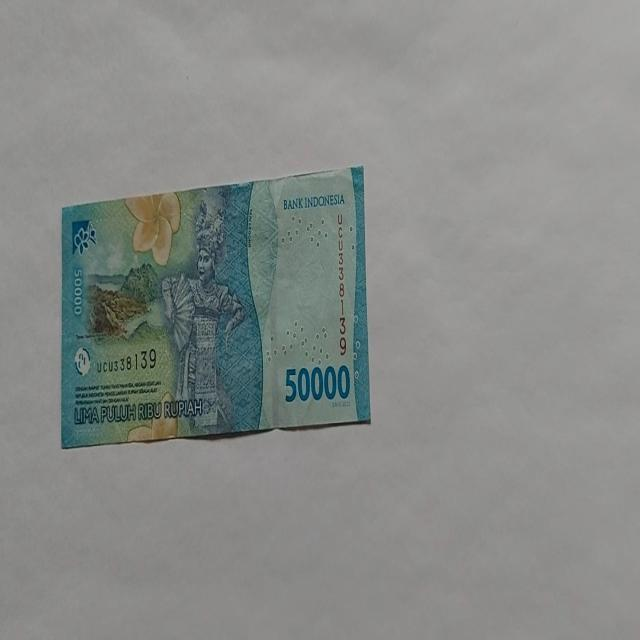lima puluh ribu rupiah: (60, 164, 371, 448)
